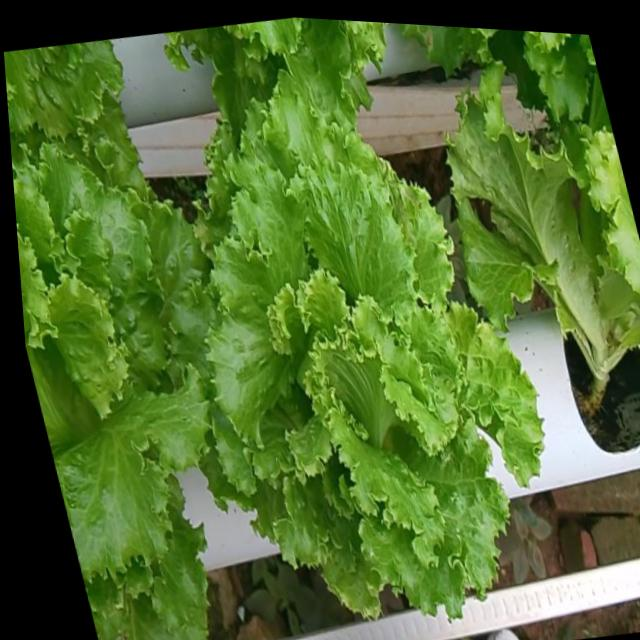Mature: (195, 100, 547, 632), (14, 149, 214, 598)
